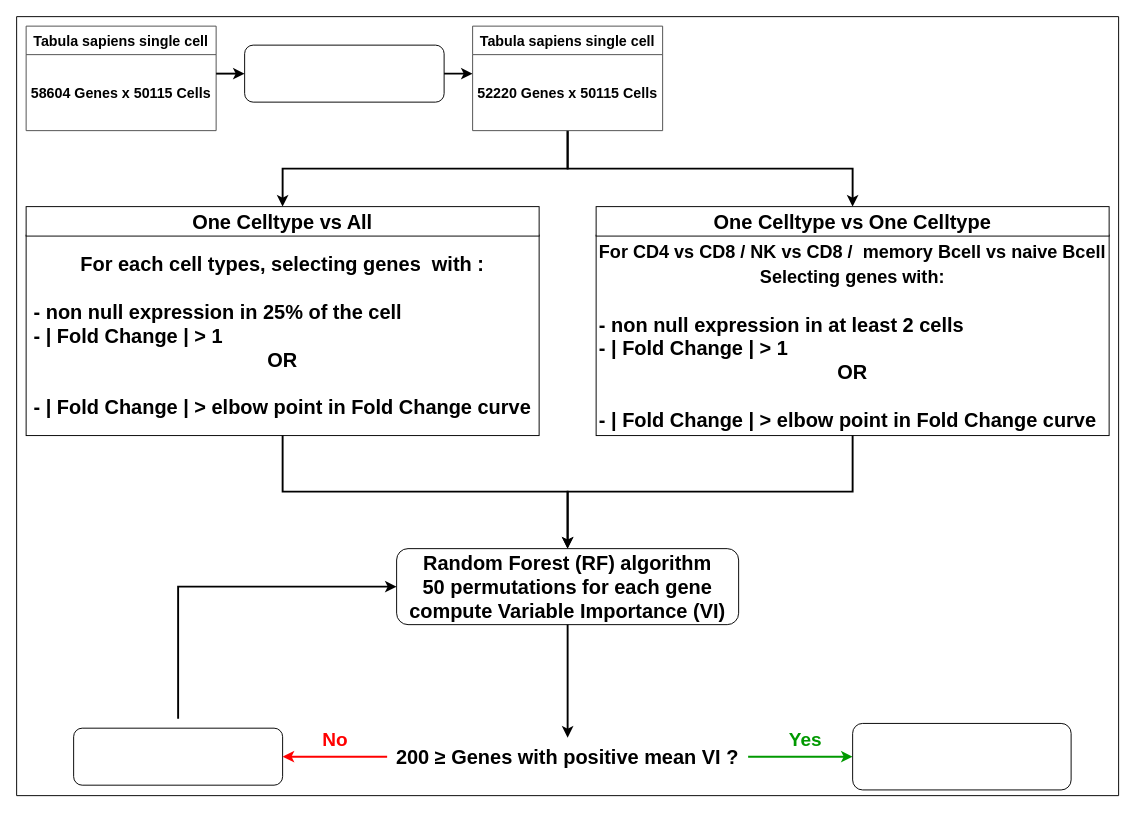
Some shapes in this 1136 by 813 pixel diagram are drawn without their labels. Each missing label, with the centre of its shape:
Remove genes with VI ≤ 0: the point at 178,756
Remove unexpressed genes: the point at 344,73
Signature geneset for the said celltype: the point at 961,756
